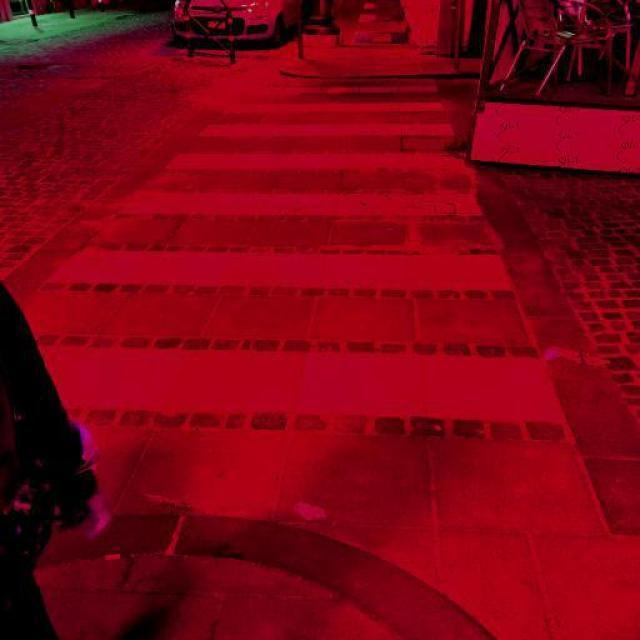crosswalk: (24, 77, 611, 529)
